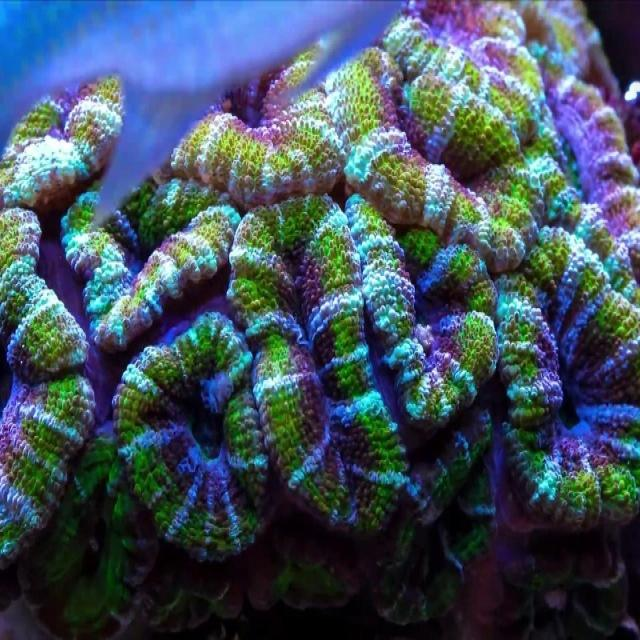aquatic plants: (0, 0, 639, 627)
fish: (0, 0, 399, 226)
